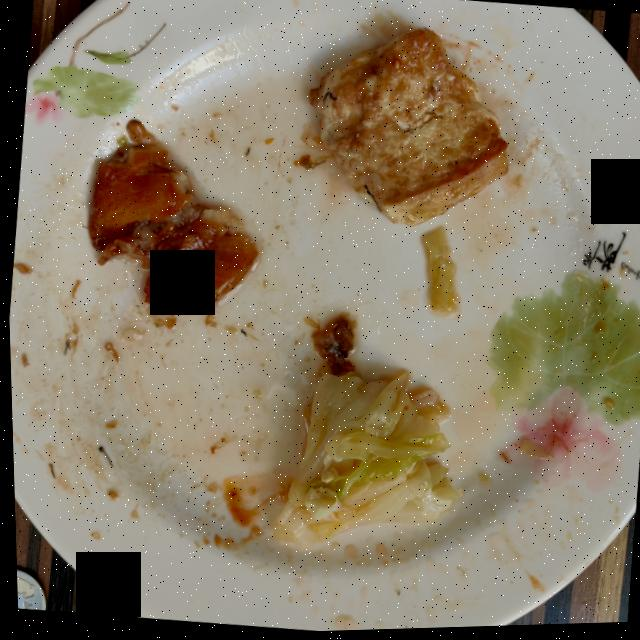Kabayaki sea bream fillet: (86, 121, 255, 312)
cabbage: (267, 374, 458, 550)
coin: (13, 569, 41, 610)
